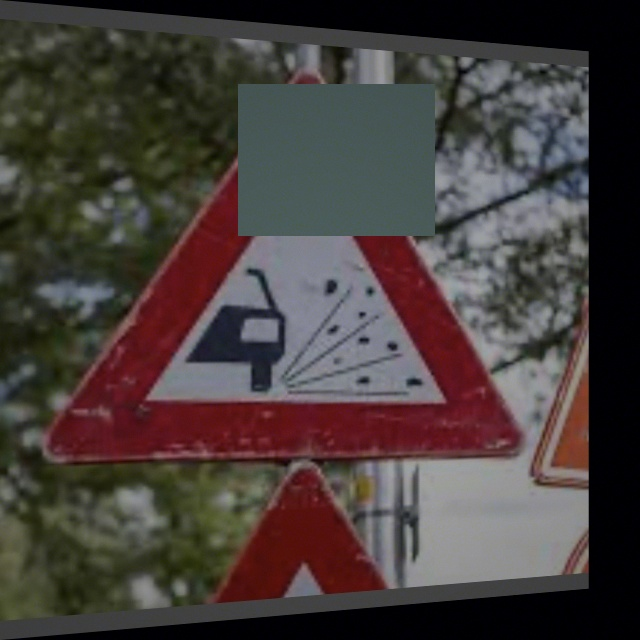Loose_Gravel: (63, 55, 523, 473)
